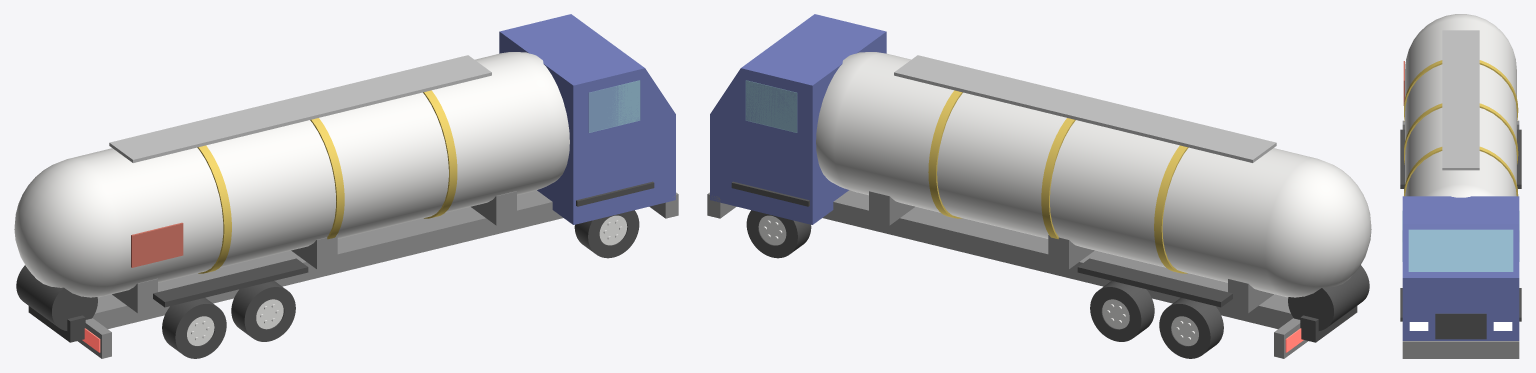
The model's file is fuel-truck.glb.
3 views of the same model, side by side, from view 1: azimuth 30°, elevation 25°; view 2: azimuth 150°, elevation 25°; view 3: azimuth 270°, elevation 25° (orthographic). The views are drawn at different scales.
Parts seen in each view (by area): view 1: tank, cab, chassis, catwalk, tank-bands, mudguards, hose-reel, tank-cradle, wheel-2r-tire, wheel-3r-tire, cab-windows, hazard-placard (+4 smaller); view 2: tank, cab, chassis, catwalk, tank-bands, mudguards, hose-reel, tank-cradle, wheel-2l-tire, wheel-3l-tire, cab-windows, wheel-1l-tire (+3 smaller); view 3: cab, tank, catwalk, cab-windows, chassis, tank-bands, grille, mudguards, headlights.
Boxes of the visible parts, x1,y1,x2,y2 form: tank: [14, 52, 569, 297]; cab: [499, 14, 675, 224]; chassis: [77, 190, 678, 358]; catwalk: [109, 55, 491, 162]; tank-bands: [197, 90, 457, 273]; mudguards: [153, 181, 654, 307]; hose-reel: [16, 265, 97, 342]; tank-cradle: [112, 191, 516, 313]; wheel-2r-tire: [231, 281, 295, 341]; wheel-3r-tire: [162, 298, 226, 358]; cab-windows: [588, 80, 640, 132]; hazard-placard: [131, 222, 183, 267]; tank: [816, 52, 1371, 297]; cab: [710, 14, 886, 224]; chassis: [707, 190, 1308, 358]; catwalk: [894, 55, 1276, 162]; tank-bands: [928, 90, 1188, 273]; mudguards: [731, 181, 1232, 307]; hose-reel: [1288, 265, 1369, 342]; tank-cradle: [869, 191, 1273, 313]; wheel-2l-tire: [1090, 281, 1154, 341]; wheel-3l-tire: [1159, 298, 1223, 358]; cab-windows: [745, 80, 797, 132]; wheel-1l-tire: [746, 210, 811, 258]; cab: [1402, 196, 1519, 340]; tank: [1405, 14, 1516, 197]; catwalk: [1442, 30, 1479, 170]; cab-windows: [1402, 211, 1519, 271]; chassis: [1402, 120, 1519, 358]; tank-bands: [1404, 60, 1518, 196]; grille: [1435, 313, 1486, 339]; mudguards: [1400, 129, 1521, 321]; headlights: [1409, 322, 1512, 330].
Bounding box in the file's own units: 12.04 × 3.56 × 2.6.
